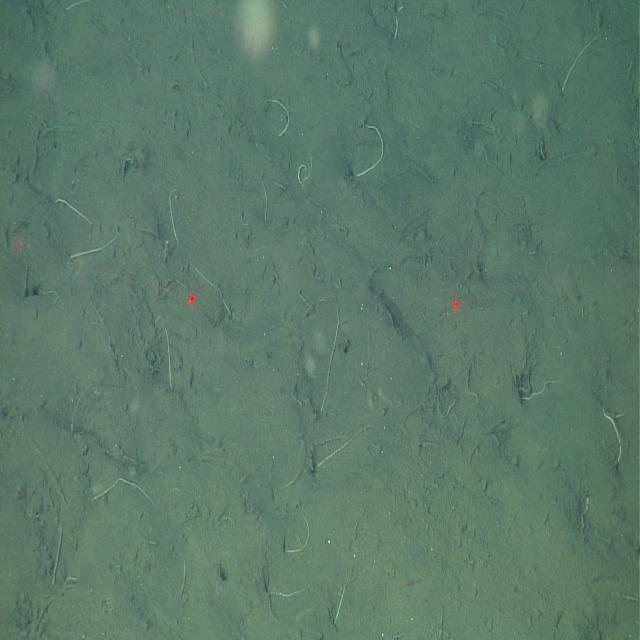Brittle Star: (44, 515, 81, 601)
